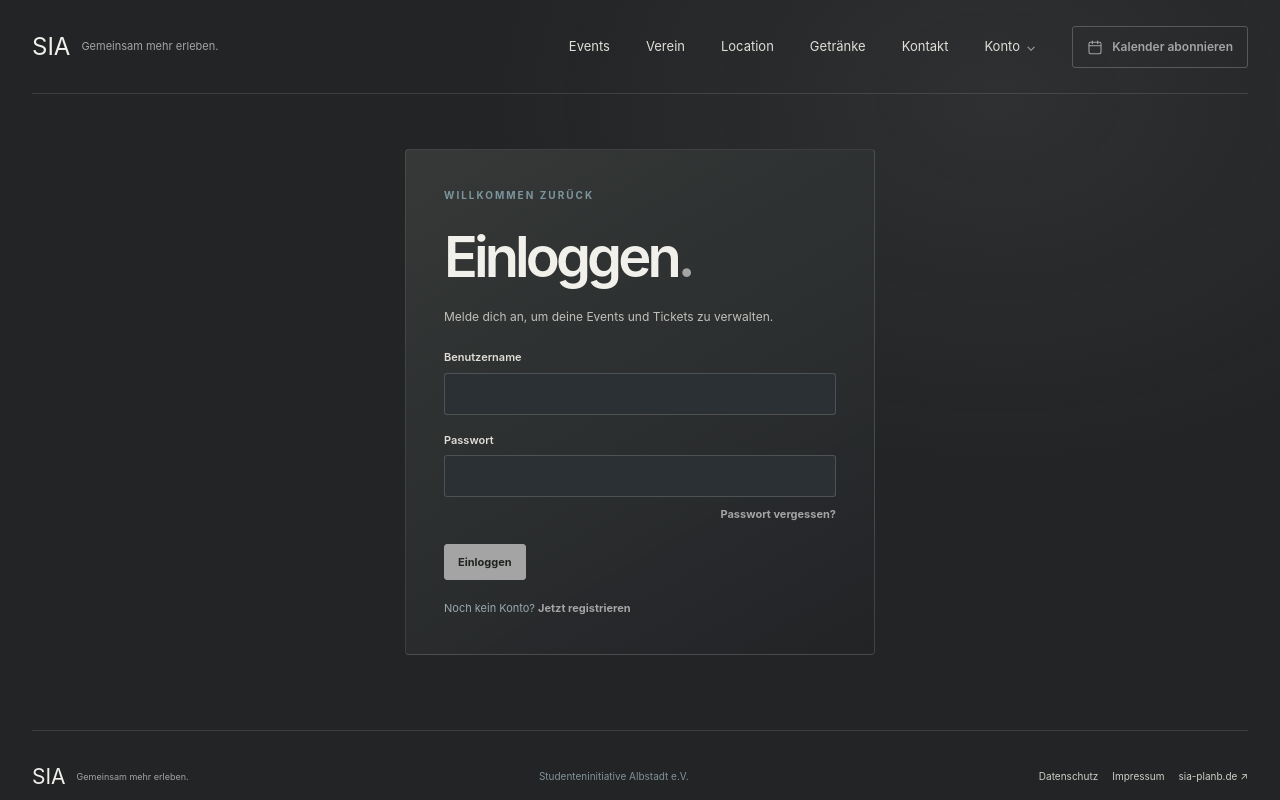
Test: events page › shows a useful message when login credentials are rejected
Type "nobody" into the field labelled "Benutzername" at (640, 394), box 444,373 -> 836,415
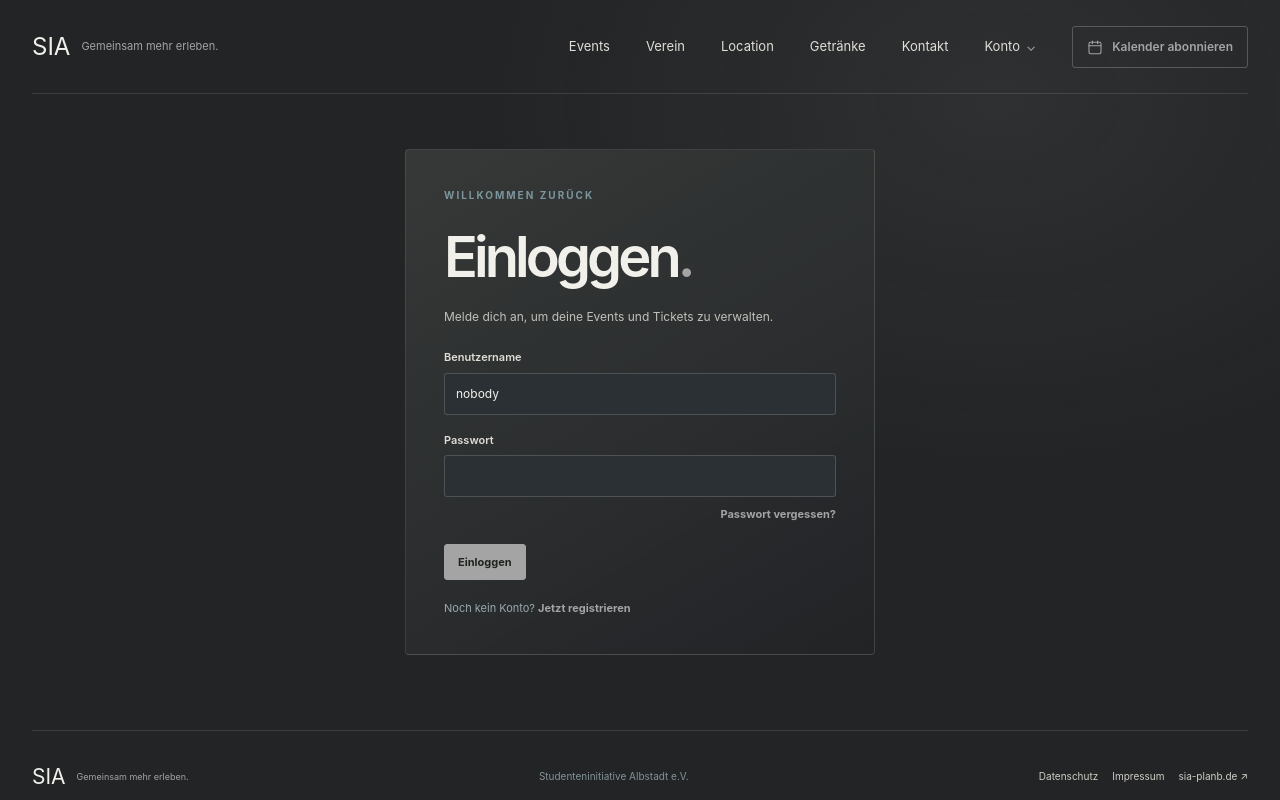
Type "wrong-password" into the password field labelled "Passwort" at (640, 476), box 444,455 -> 836,497
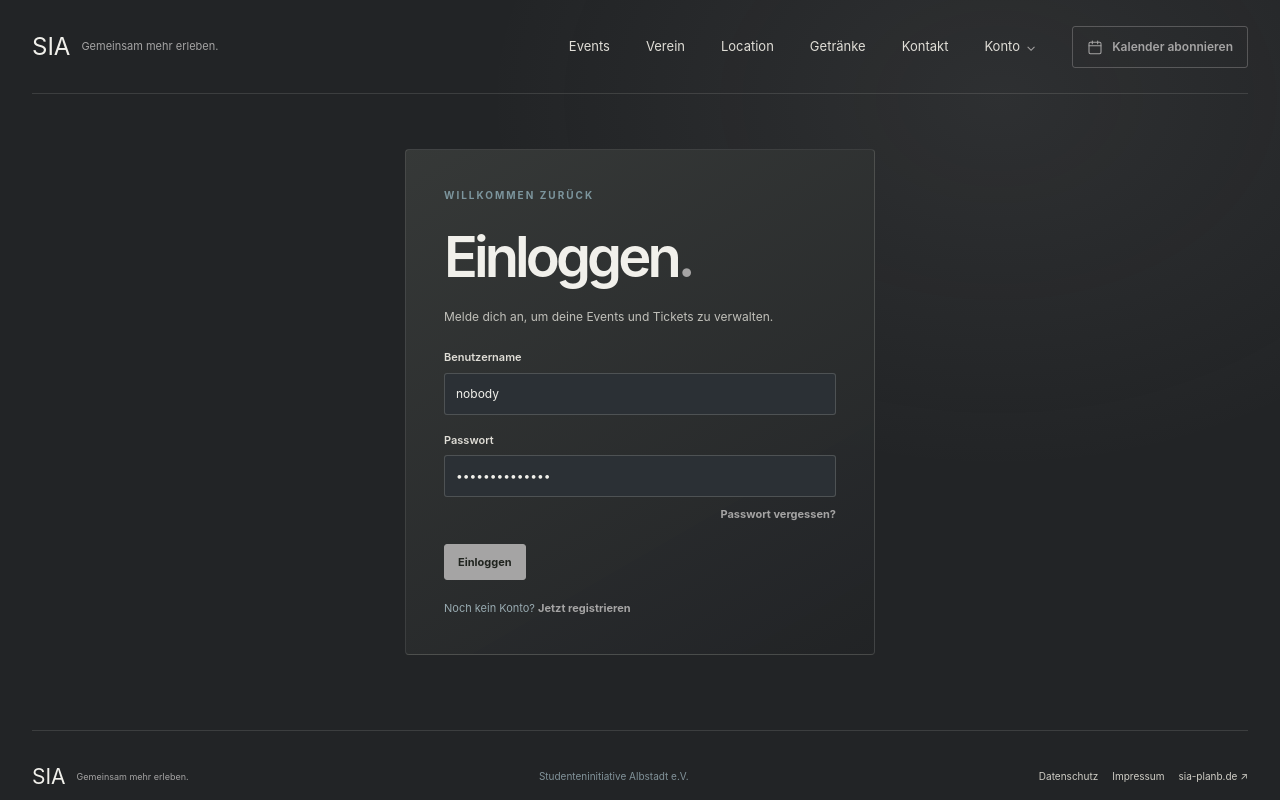
Click the button "Einloggen" at (485, 562), box 444,544 -> 526,580
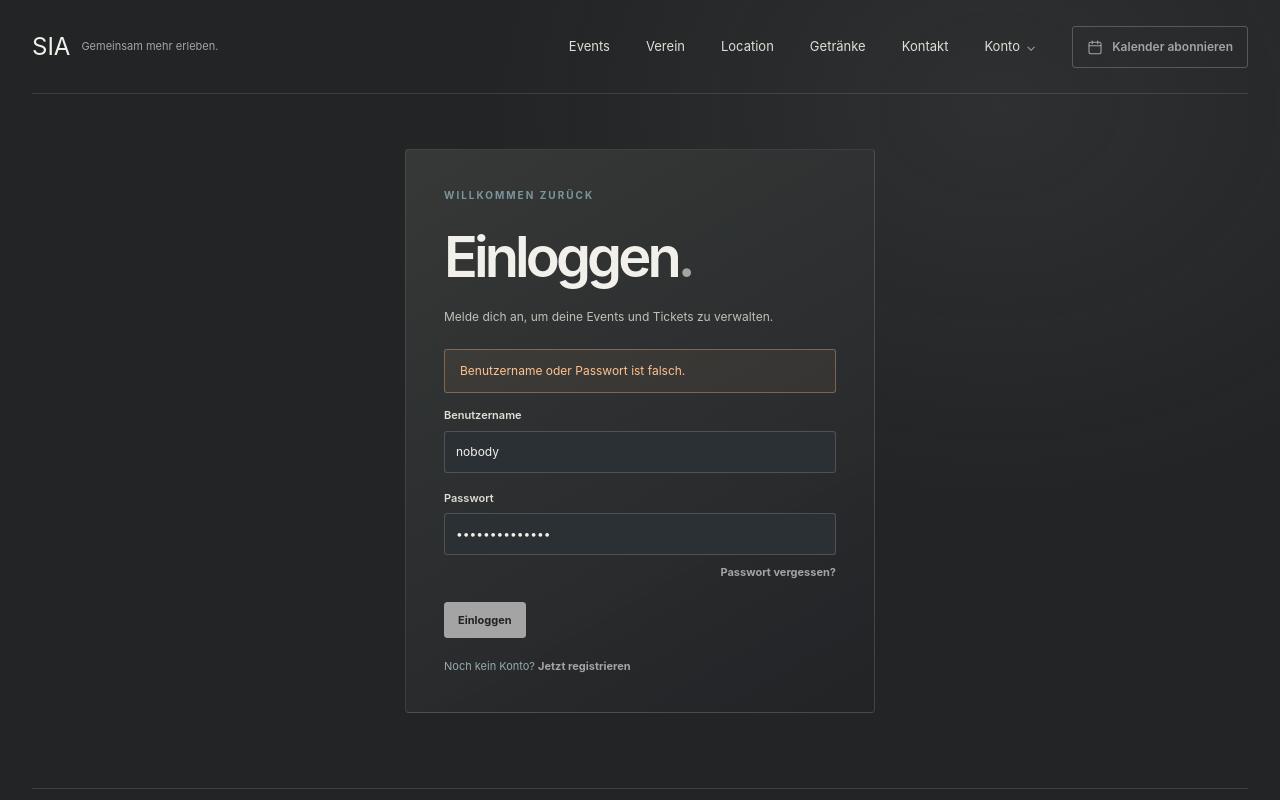
Result: the message reads "Benutzername oder Passwort ist falsch." at 460,363 -> 685,378
